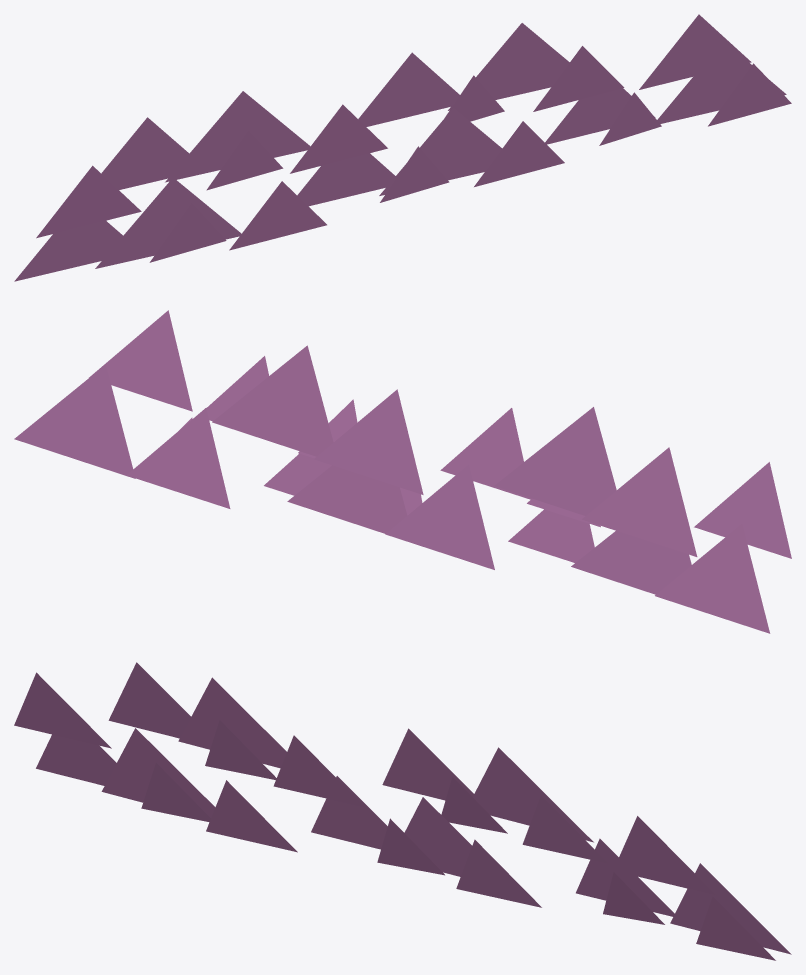
The model's file is prop_bulk_gen_0098_lod0.gltf.
The picture shows the model from 3 angles, top to bottom: view 1: azimuth 30°, elevation 25°; view 2: azimuth 150°, elevation 25°; view 3: azimuth 330°, elevation 25°; orthographic projection.
Visible parts, largest first — view 1: prop_bulk_gen_0098_lod0; view 2: prop_bulk_gen_0098_lod0; view 3: prop_bulk_gen_0098_lod0.
Part boxes in pixels (bbox=[...]): prop_bulk_gen_0098_lod0: bbox=[14, 14, 791, 281]; prop_bulk_gen_0098_lod0: bbox=[14, 310, 791, 633]; prop_bulk_gen_0098_lod0: bbox=[14, 662, 791, 960].
Size of the model in its own units: 0.73 by 0.1458 by 0.0776.
